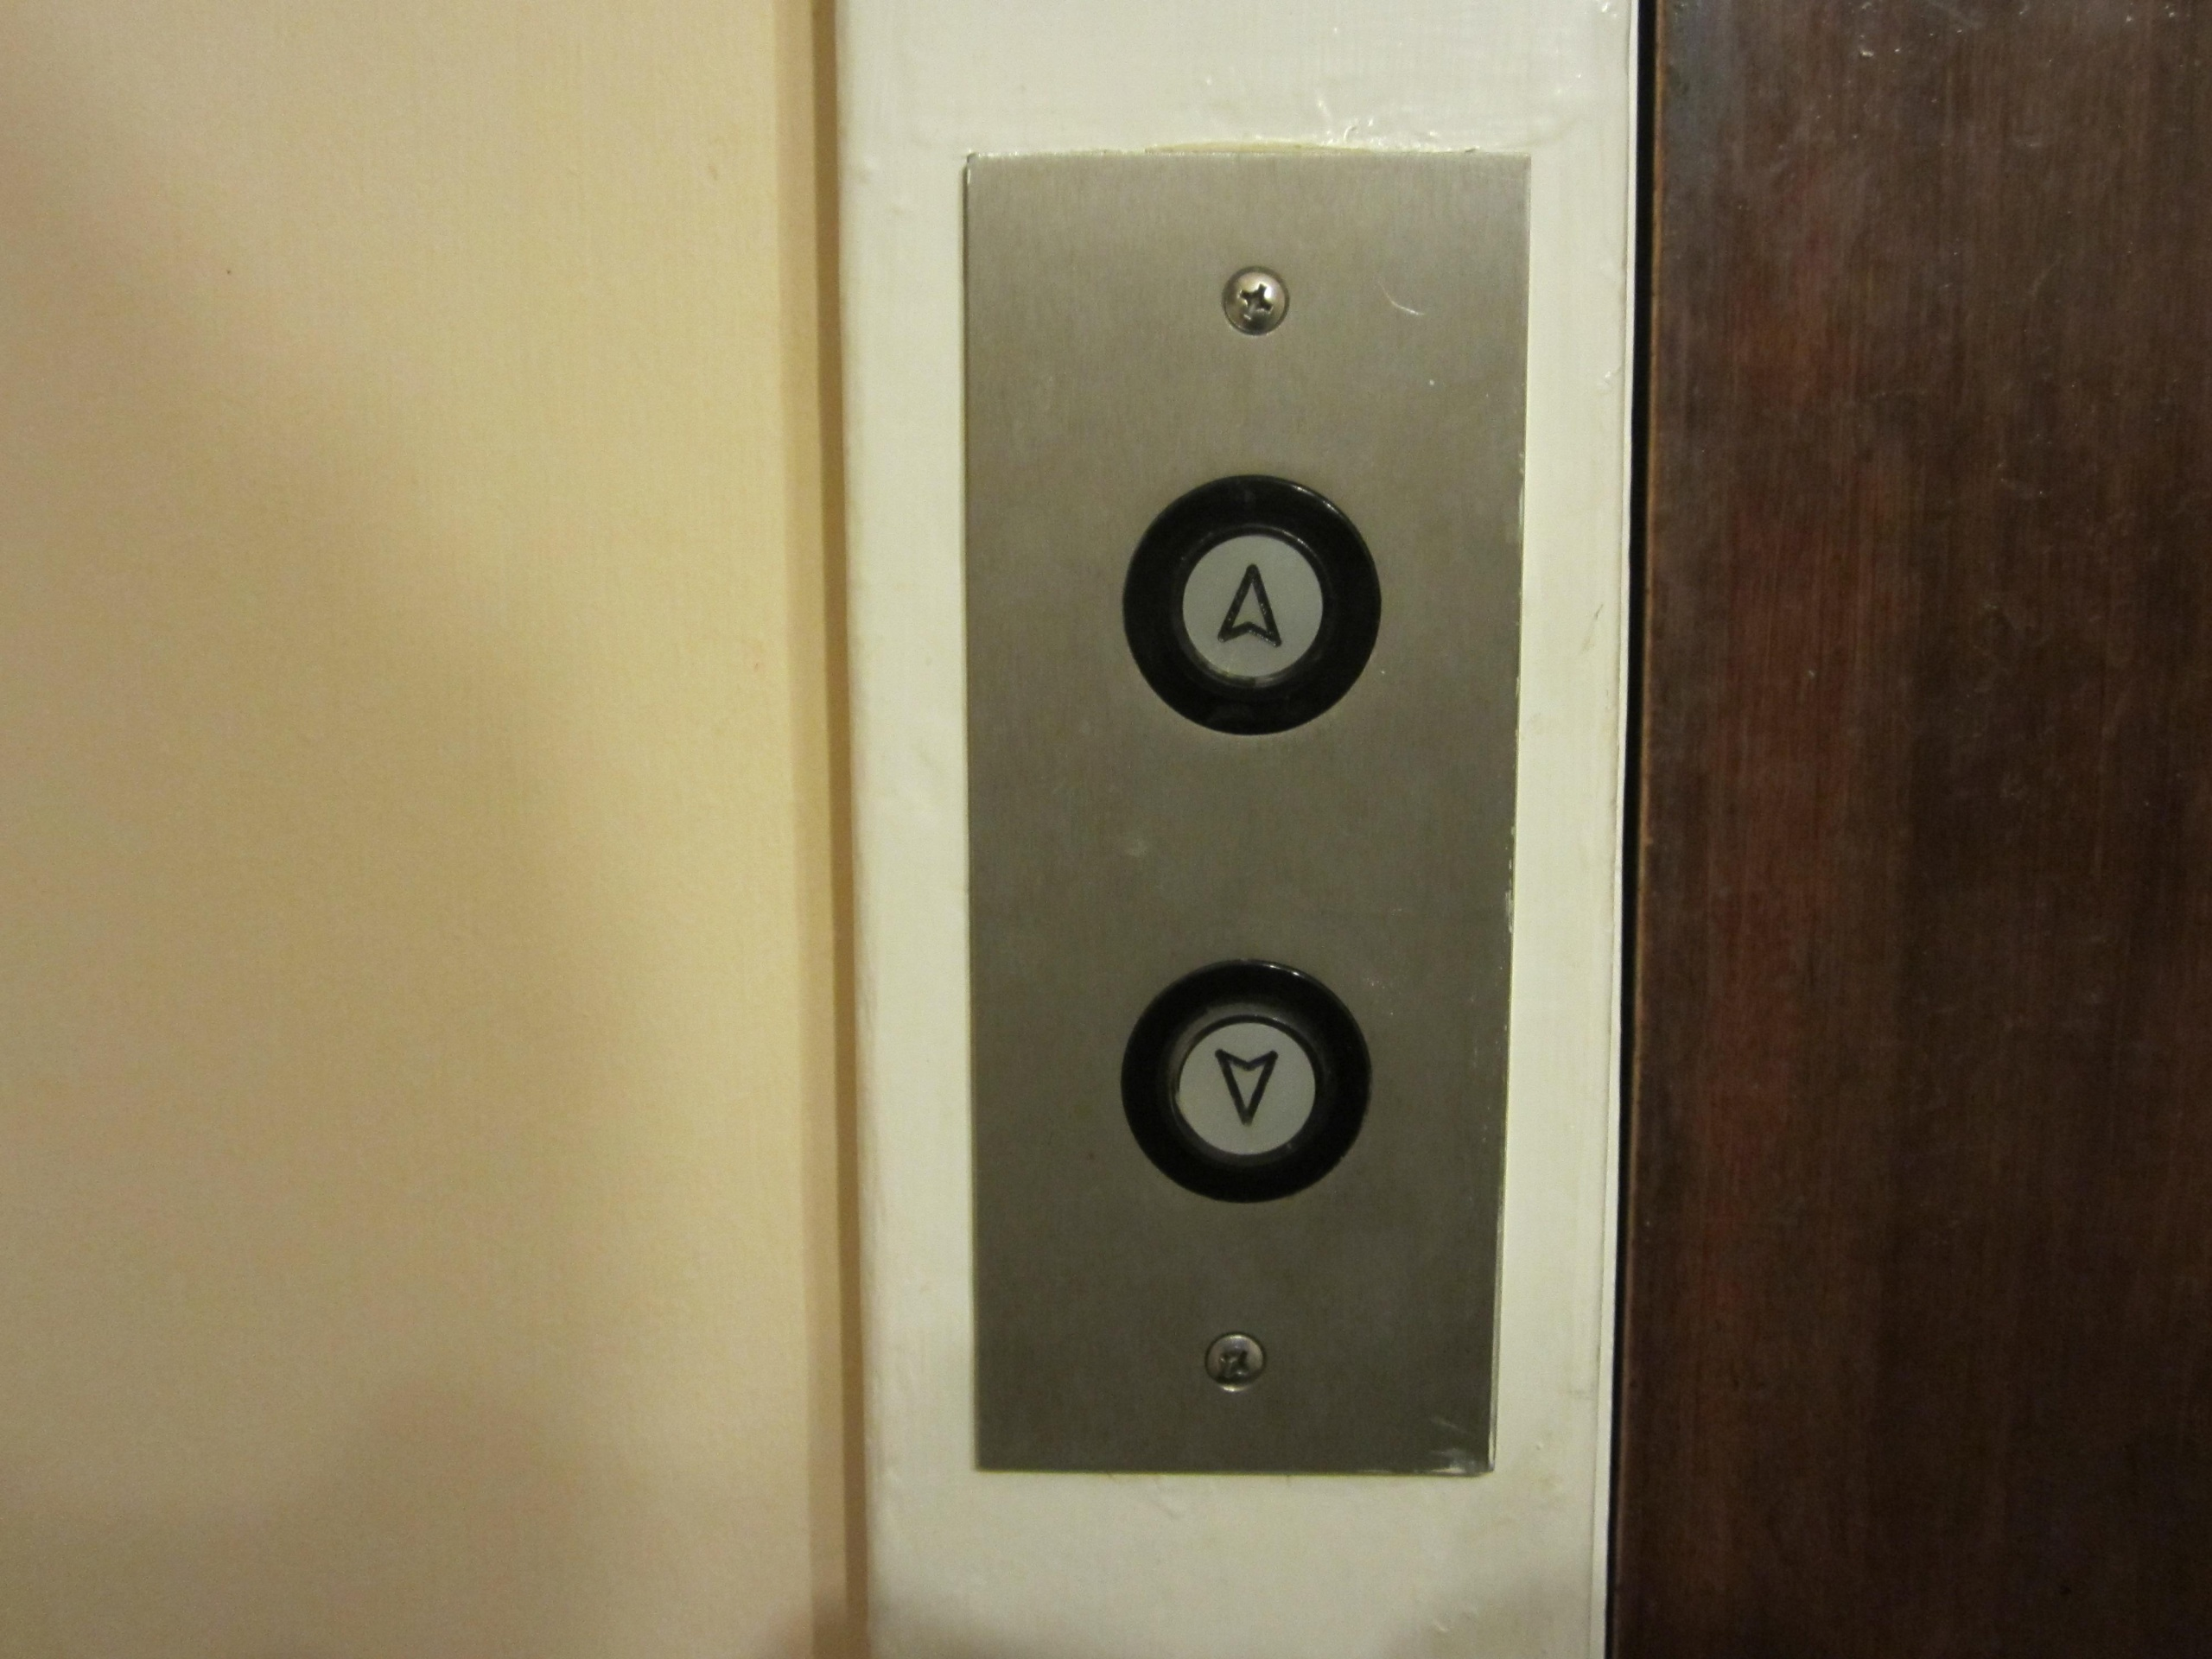down: (1111, 951, 1376, 1215)
up: (1109, 460, 1388, 748)
